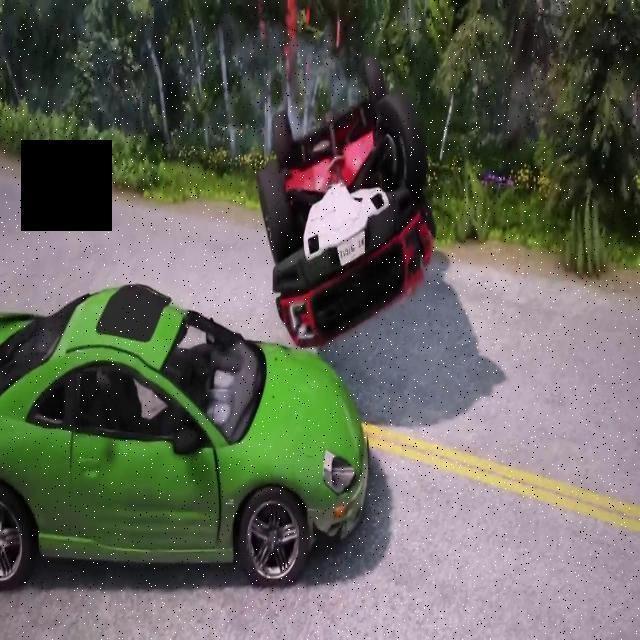multiple_accident: (3, 48, 448, 608)
